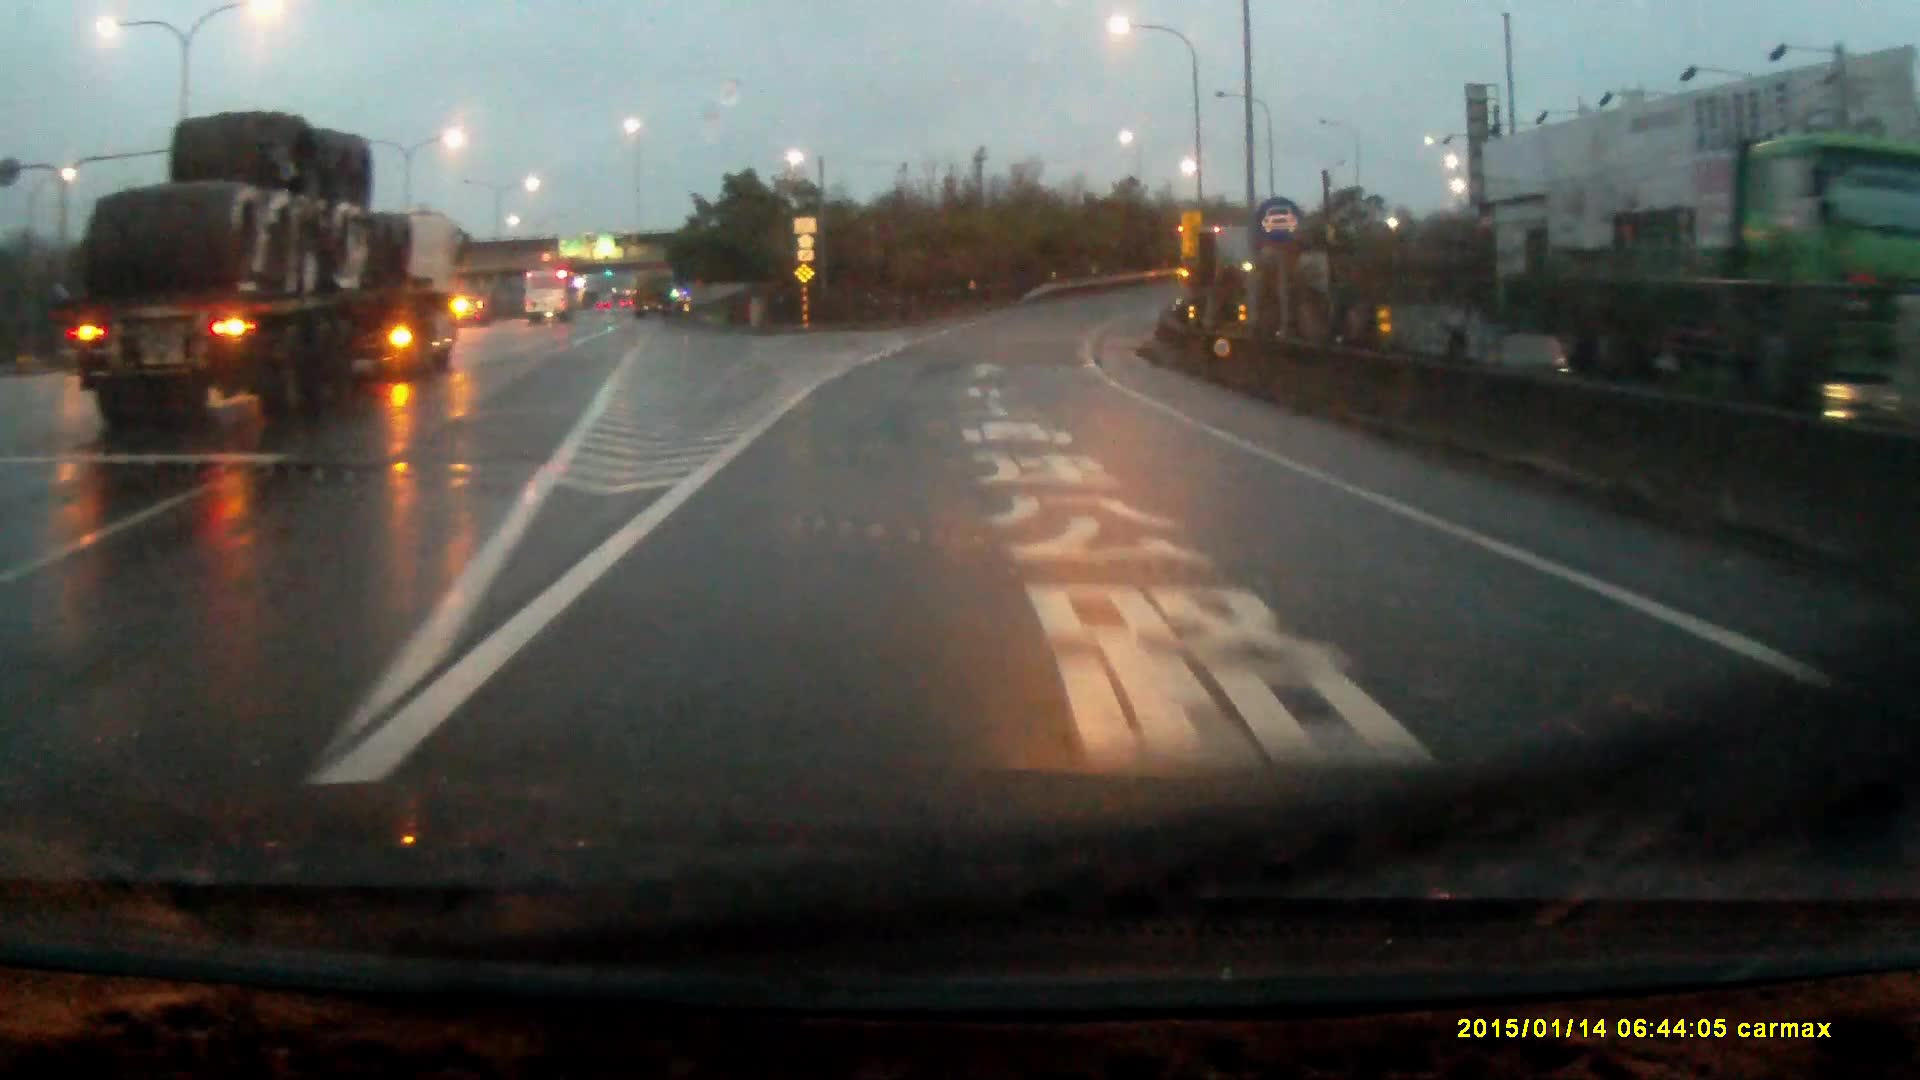vehicle: (61, 111, 468, 419), (524, 269, 580, 326)
